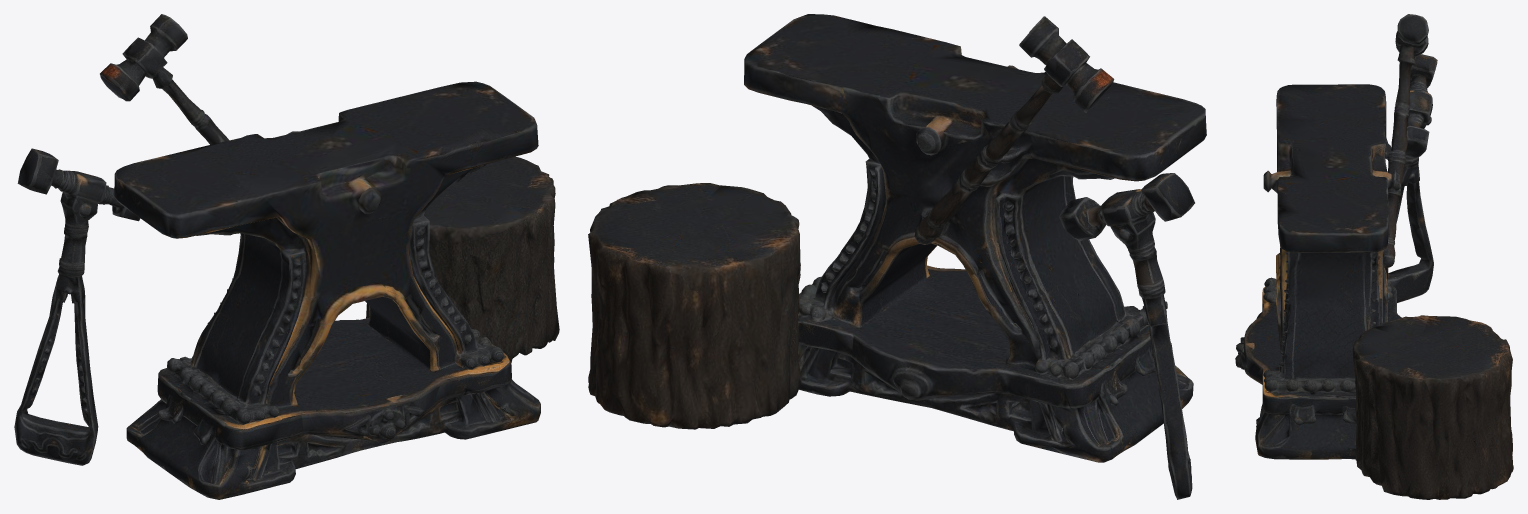
File: ironcrownForgeAnvil.ae8c9168.glb
The picture shows the model from 3 angles, left to right: view 1: azimuth 30°, elevation 25°; view 2: azimuth 150°, elevation 25°; view 3: azimuth 270°, elevation 25°; orthographic projection. The views are drawn at different scales.
Bounding box in the file's own units: 1.9 × 1.38 × 1.05.
Materials: 1 (1 with a texture image).
